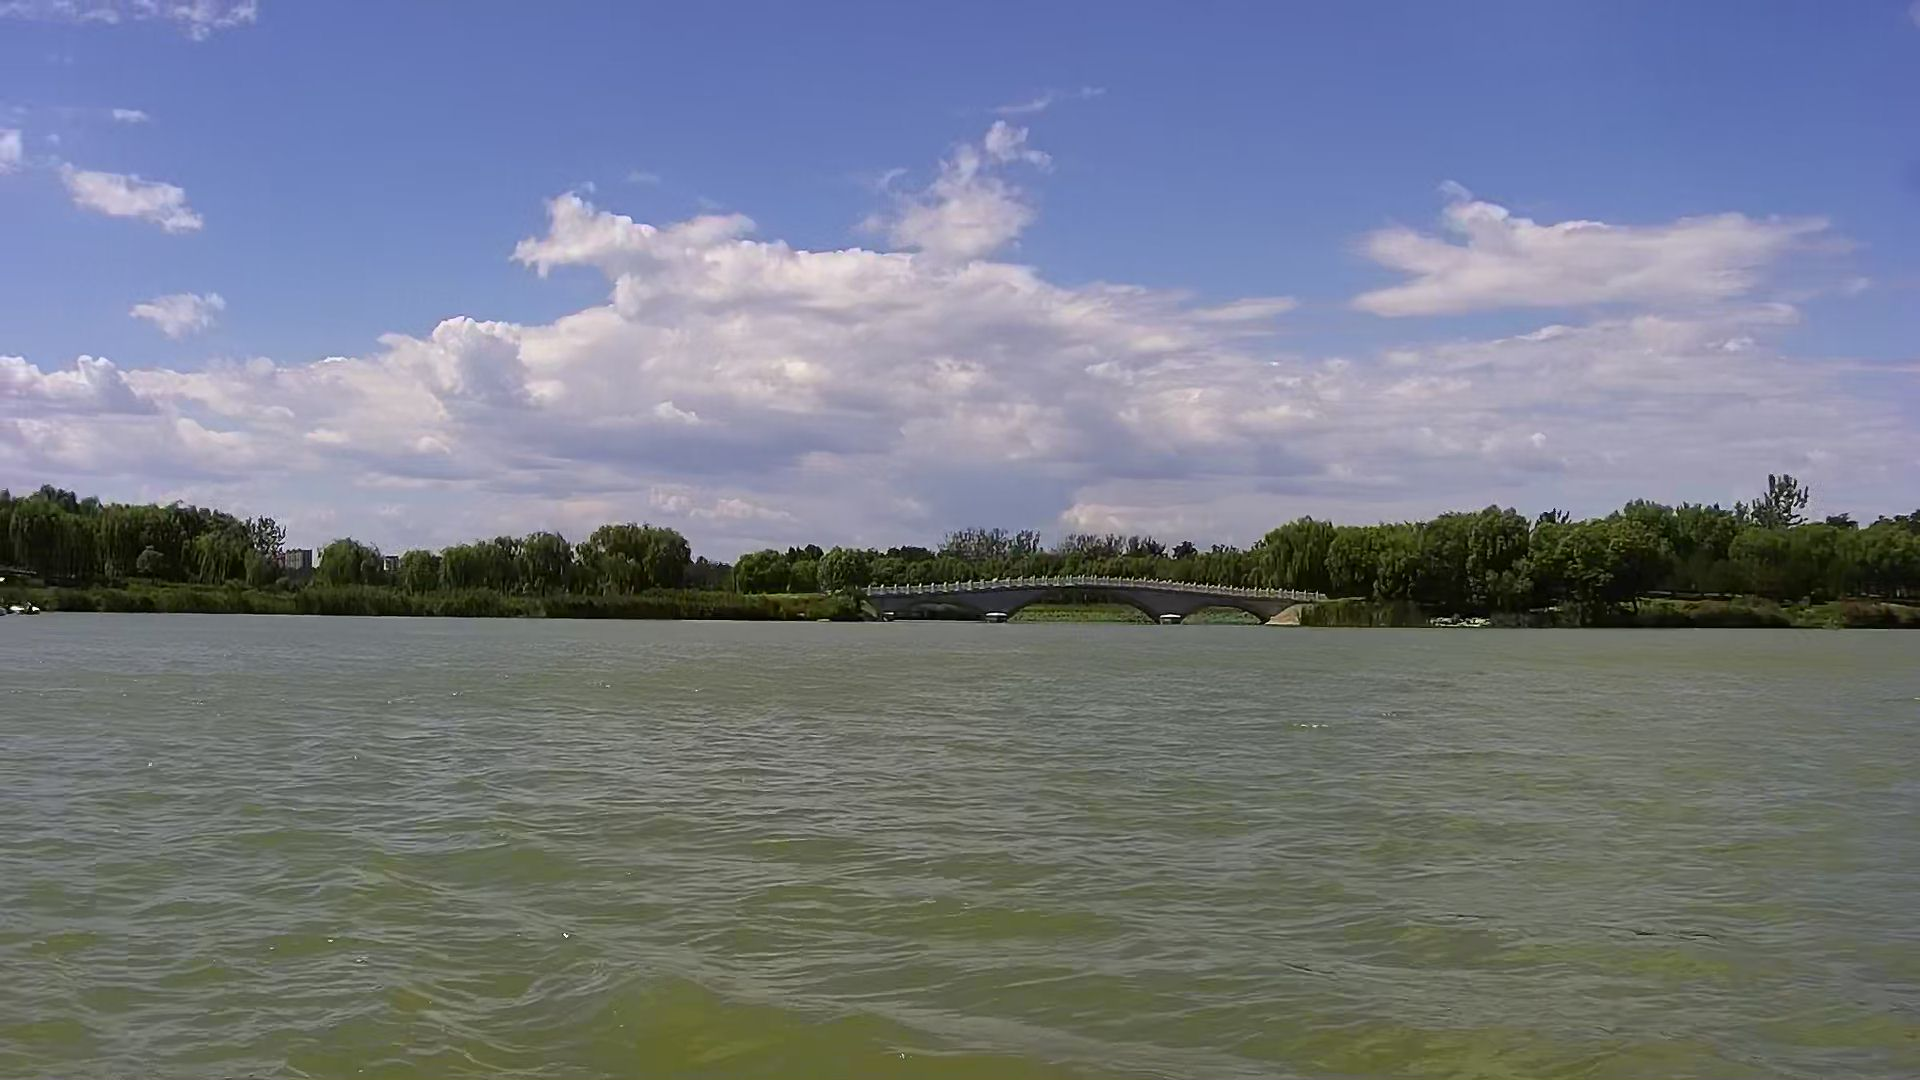bridge: (862, 572, 1320, 630)
